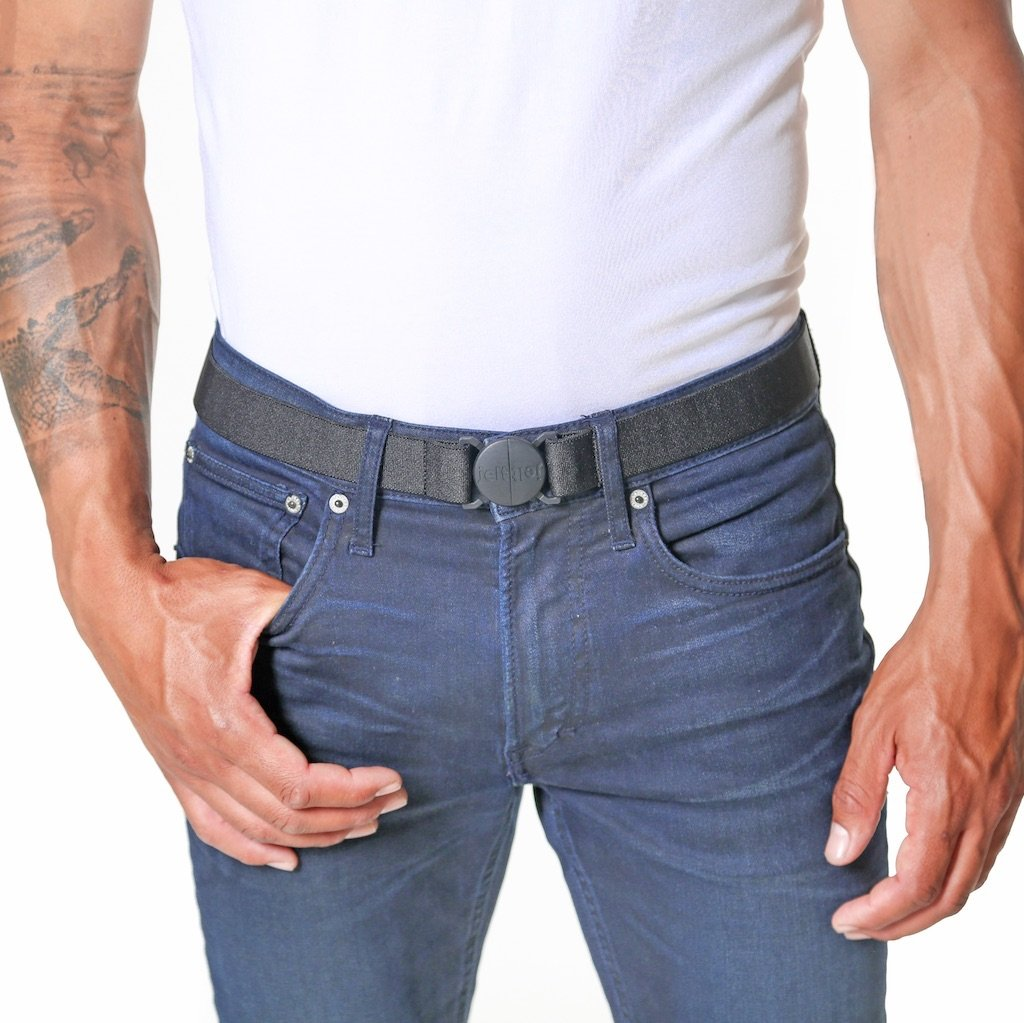C_jeans: (160, 361, 887, 1023)
F_belt: (192, 413, 834, 525)
